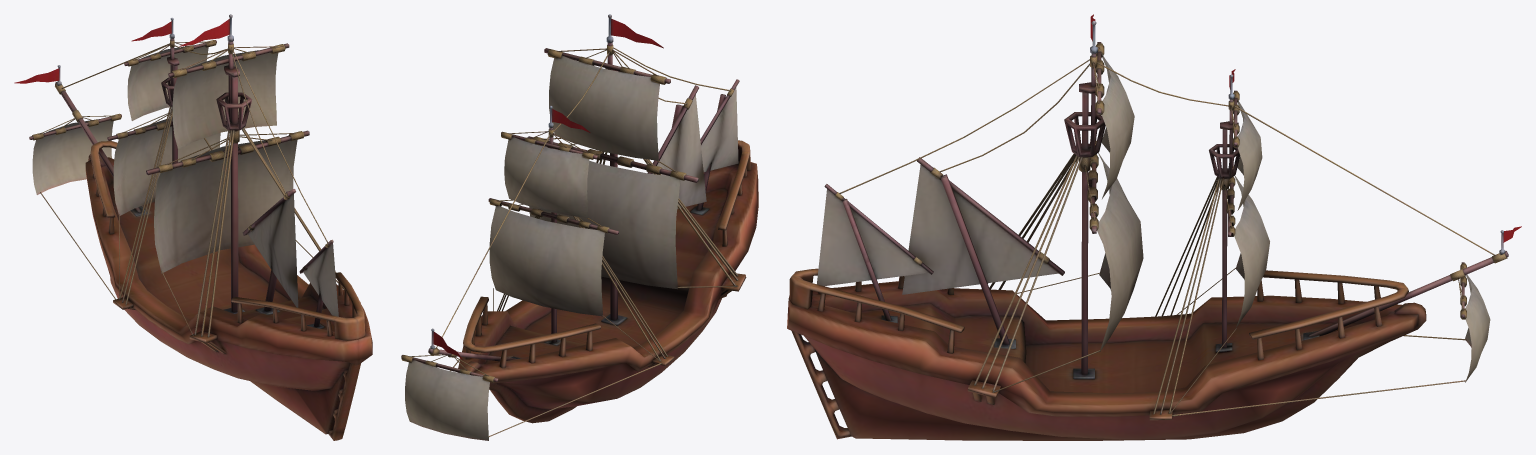
File: Galleon.glb
3 renders of one model, left to right at view 1: azimuth 30°, elevation 25°; view 2: azimuth 150°, elevation 25°; view 3: azimuth 270°, elevation 25°, orthographic. The views are drawn at different scales.
Parts seen in each view (by area): view 1: 1.001, 2.001; view 2: 1.001, 2.001; view 3: 2.001, 1.001.
Part boxes in pixels (x1=…): 1.001: x1=14, y1=14, x2=344, y2=337; 2.001: x1=32, y1=40, x2=372, y2=440; 1.001: x1=401, y1=14, x2=739, y2=440; 2.001: x1=401, y1=45, x2=758, y2=423; 2.001: x1=787, y1=43, x2=1507, y2=440; 1.001: x1=817, y1=14, x2=1521, y2=416.
Size of the model in its own units: 3.35 by 6.55 by 10.44.
Materials: 2 (2 with a texture image).
